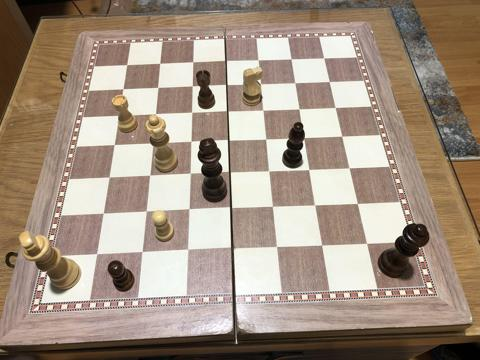xcorner: (320, 53, 332, 65), (287, 55, 299, 67), (255, 56, 267, 68), (188, 58, 200, 70), (155, 59, 167, 71), (122, 60, 134, 72), (326, 77, 338, 89), (291, 78, 303, 90), (257, 80, 269, 92), (222, 81, 234, 93), (188, 82, 200, 94), (153, 83, 165, 95), (118, 85, 130, 97), (331, 103, 343, 115), (295, 104, 307, 116), (259, 106, 271, 118), (223, 107, 235, 119), (187, 108, 199, 120), (150, 110, 162, 122), (114, 111, 126, 123), (338, 131, 350, 143), (300, 133, 312, 145), (262, 134, 274, 146), (224, 136, 236, 148), (186, 137, 198, 149), (147, 139, 159, 151), (109, 140, 121, 152), (345, 163, 357, 175), (305, 165, 317, 177), (265, 166, 277, 178), (225, 168, 237, 180), (185, 170, 197, 182), (144, 171, 156, 183), (104, 173, 116, 185), (352, 198, 364, 210), (268, 202, 280, 214), (226, 203, 238, 215), (184, 205, 196, 217), (141, 207, 153, 219), (98, 209, 110, 221), (361, 237, 373, 249), (317, 239, 329, 251), (272, 241, 284, 253), (227, 243, 239, 255), (182, 245, 194, 257), (137, 247, 149, 259), (92, 249, 104, 261), (222, 57, 233, 69), (311, 200, 322, 212)
